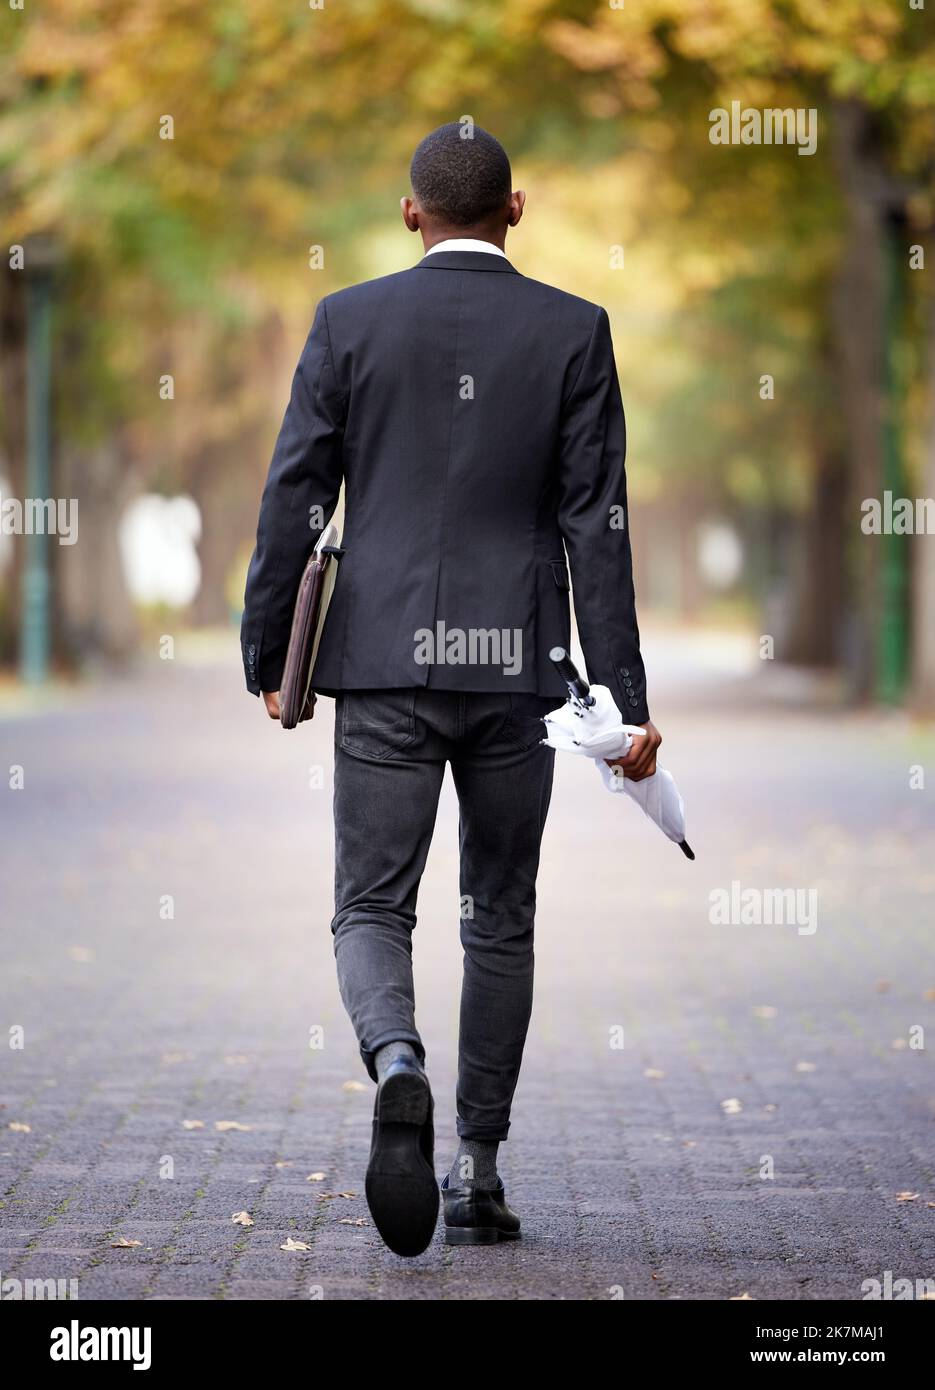person: (245, 122, 678, 1263)
